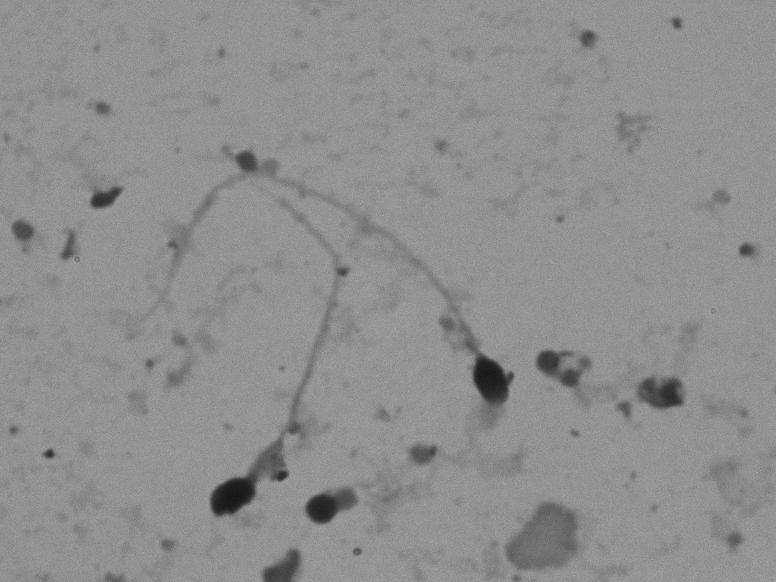Abnormal: (198, 183, 362, 522)
Normal: (108, 158, 522, 424)
